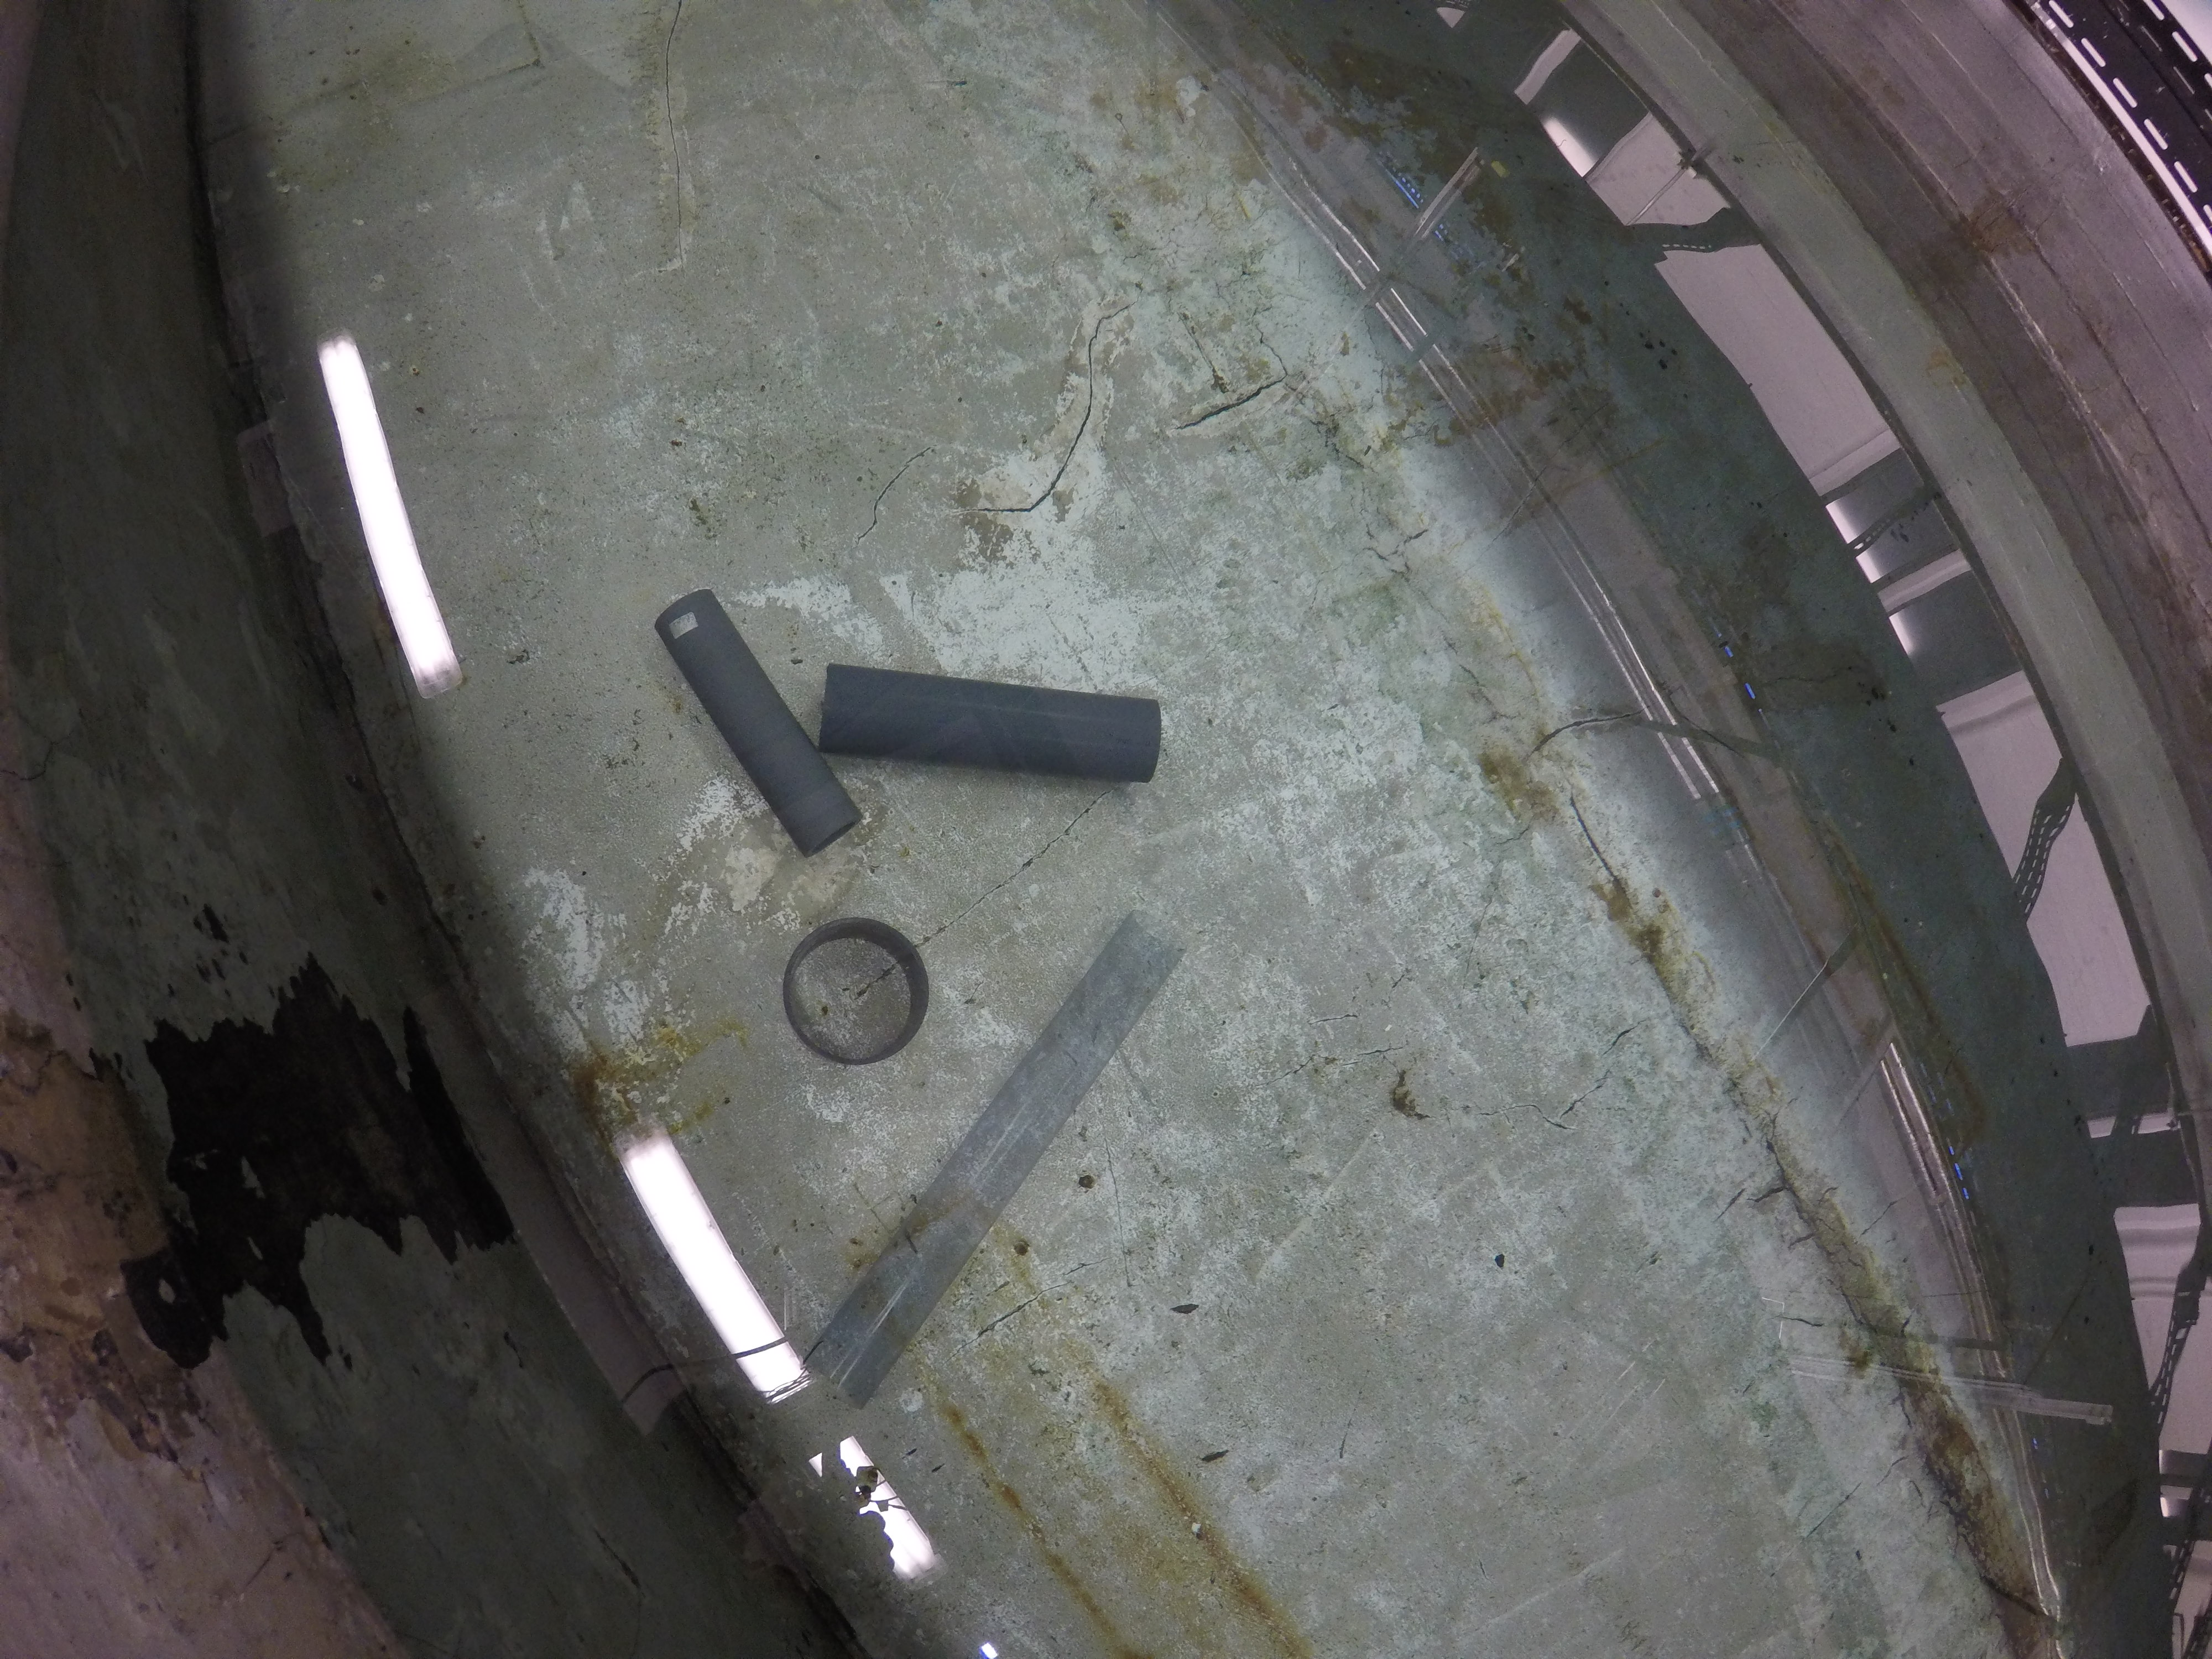pipe: (815, 911, 1184, 1352), (655, 589, 860, 859), (819, 657, 1163, 784), (784, 917, 930, 1065)
